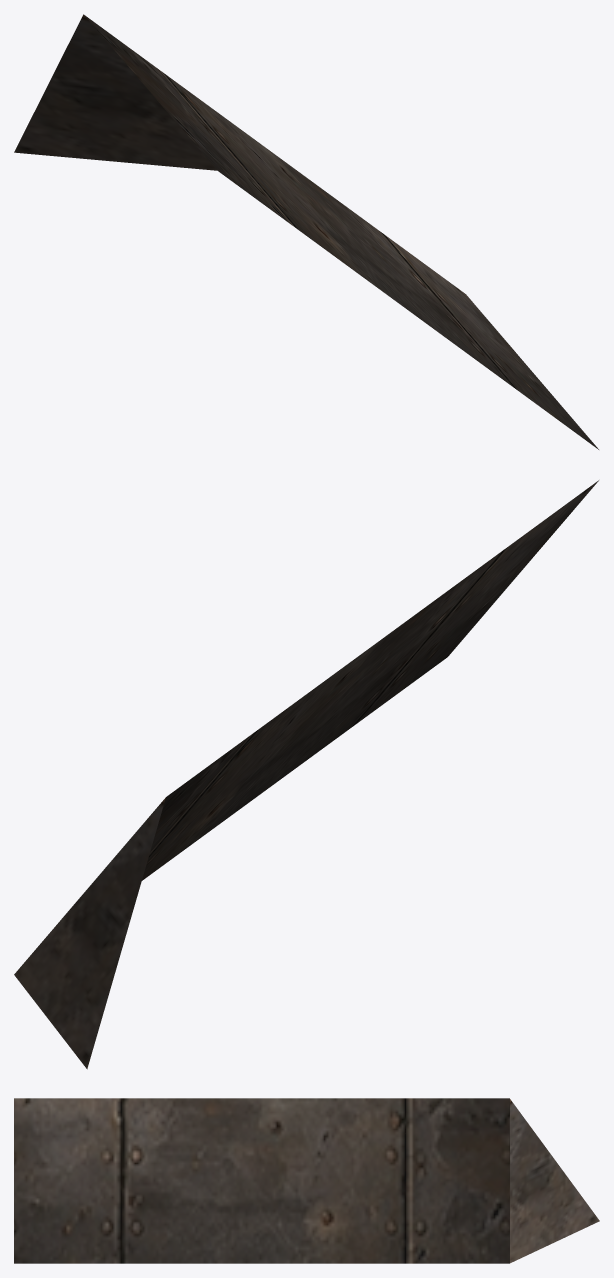
The model's file is roof_metal_3.fbx.
3 views of the same model, one above another, from view 1: azimuth 30°, elevation 25°; view 2: azimuth 150°, elevation 25°; view 3: azimuth 270°, elevation 25° (orthographic). The views are drawn at different scales.
Parts seen in each view (by area): view 1: roof_metal_3; view 2: roof_metal_3; view 3: roof_metal_3.
Boxes of the visible parts, x1,y1,x2,y2 form: roof_metal_3: [14, 14, 598, 449]; roof_metal_3: [14, 480, 598, 1069]; roof_metal_3: [14, 1098, 599, 1263].
Size of the model in its own units: 0.5138 by 0.6932 by 3.
